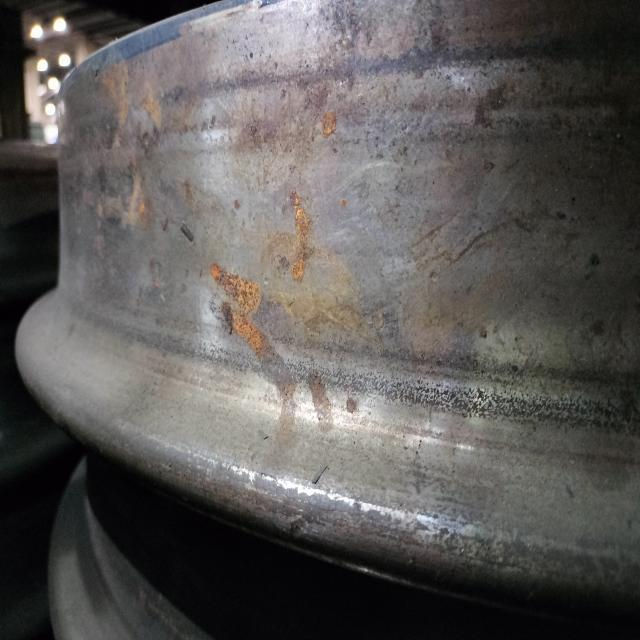Peeling: (90, 68, 168, 235), (208, 259, 267, 356), (281, 190, 318, 283)
